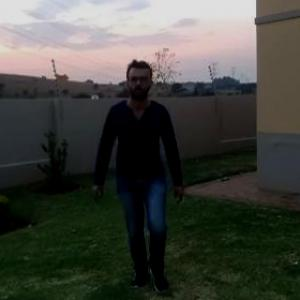follow: (105, 62, 180, 288)
